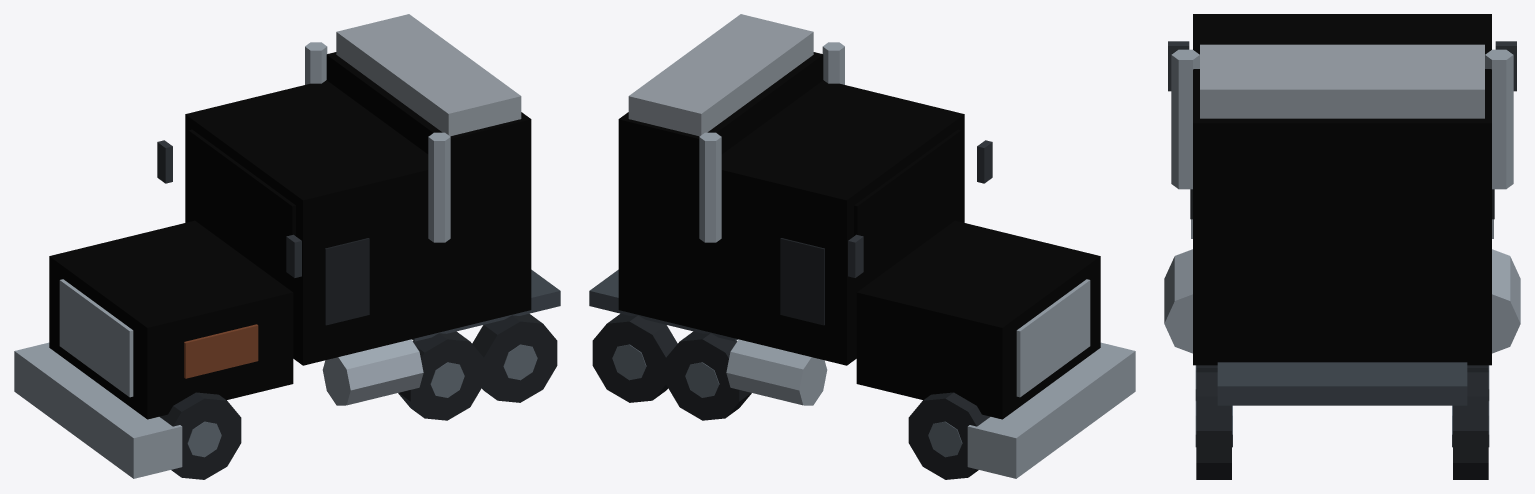
The model's file is env_semi_cab.fbx.
The picture shows the model from 3 angles, left to right: view 1: azimuth 30°, elevation 25°; view 2: azimuth 150°, elevation 25°; view 3: azimuth 270°, elevation 25°; orthographic projection. The views are drawn at different scales.
Visible parts, largest first — view 1: env_semi_cab; view 2: env_semi_cab; view 3: env_semi_cab.
Part boxes in pixels (<box>): env_semi_cab: <box>14,14,560,479</box>; env_semi_cab: <box>589,14,1135,479</box>; env_semi_cab: <box>1164,14,1520,479</box>.
Size of the model in its own units: 1800 by 1200 by 1000.
